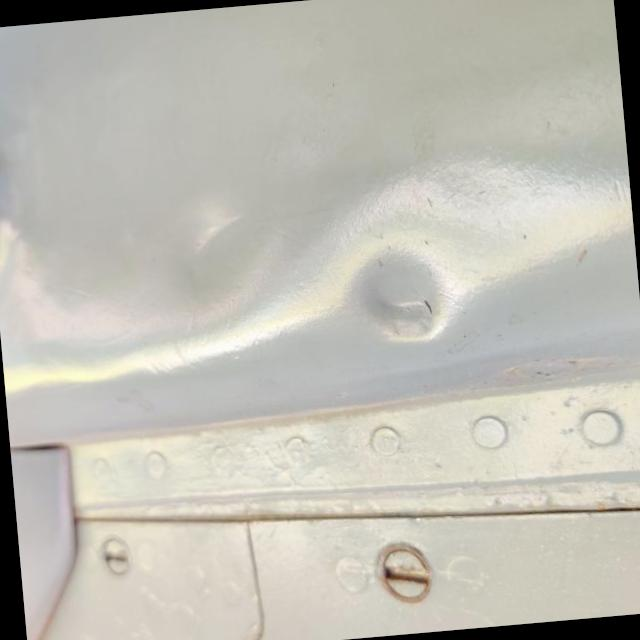dent: (321, 210, 487, 373), (149, 188, 275, 302)
